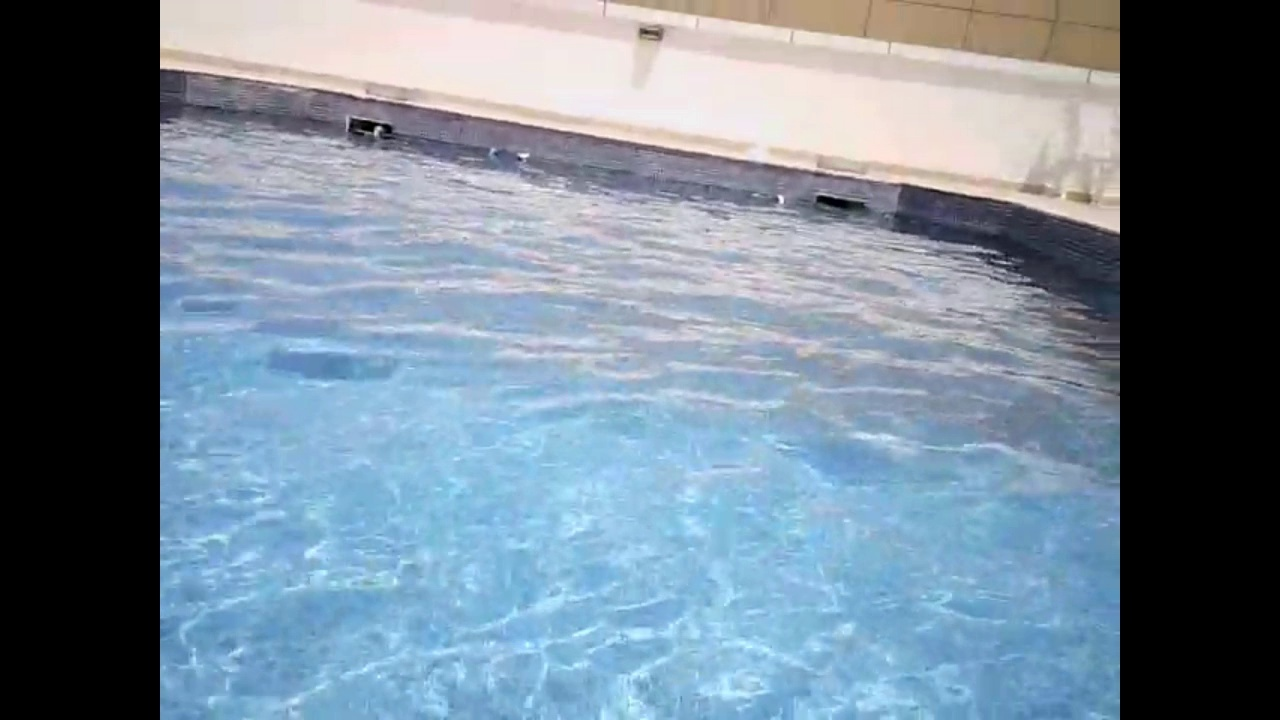debris: (485, 140, 504, 163), (514, 147, 534, 165), (371, 123, 386, 147), (766, 192, 789, 206)
